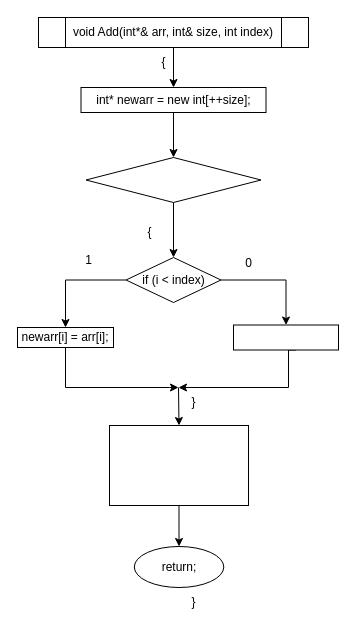
This 356x635 diagram has some shape labels left out. Here are the shapes that lost their labels. From the top down, the box of each, then its label:
(85, 156, 261, 202): for (int i = 0; i < size; i++)
(232, 324, 338, 350): newarr[i+1] = arr[i];
(108, 424, 248, 506): ewarr[index] = 0; delete[] arr; arr = newarr; newarr = nullptr;
